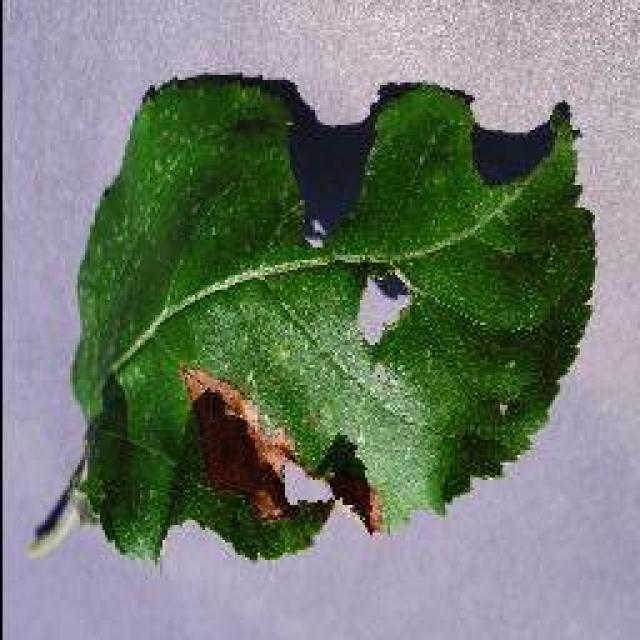Black_rot: (30, 70, 598, 565)
